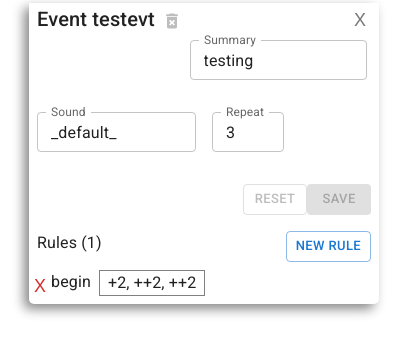
eventsutil - modify › handles error after invalid descr mod
The image size is (399, 344).
Type "new desc but way way too long" into the field with test id "descrInput" at (278, 60), box [190, 40, 367, 80]
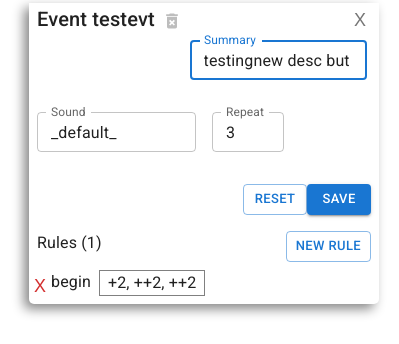
Now the button "Save" is enabled
Click the button "Save" at (339, 199), box [307, 184, 371, 215]
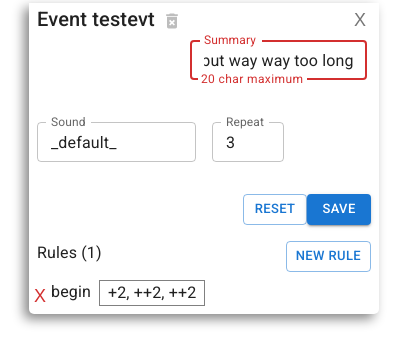
Now the text "20 char maximum" is shown, box [198, 72, 307, 86]
